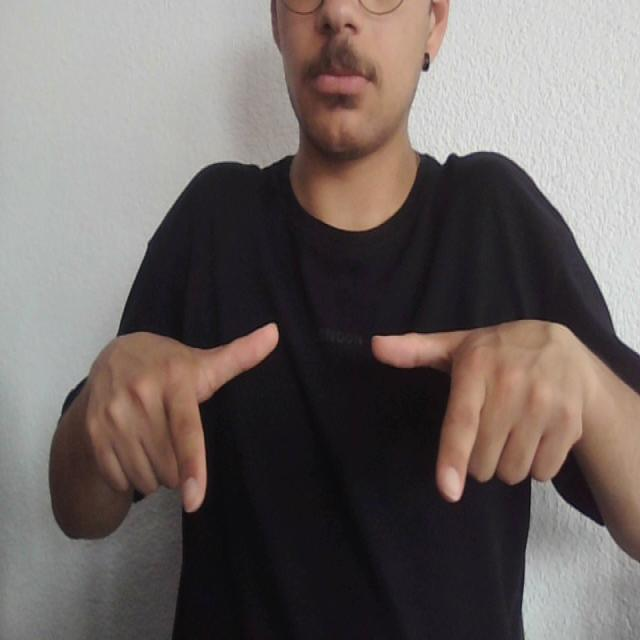Nerede: (160, 314, 493, 520)
